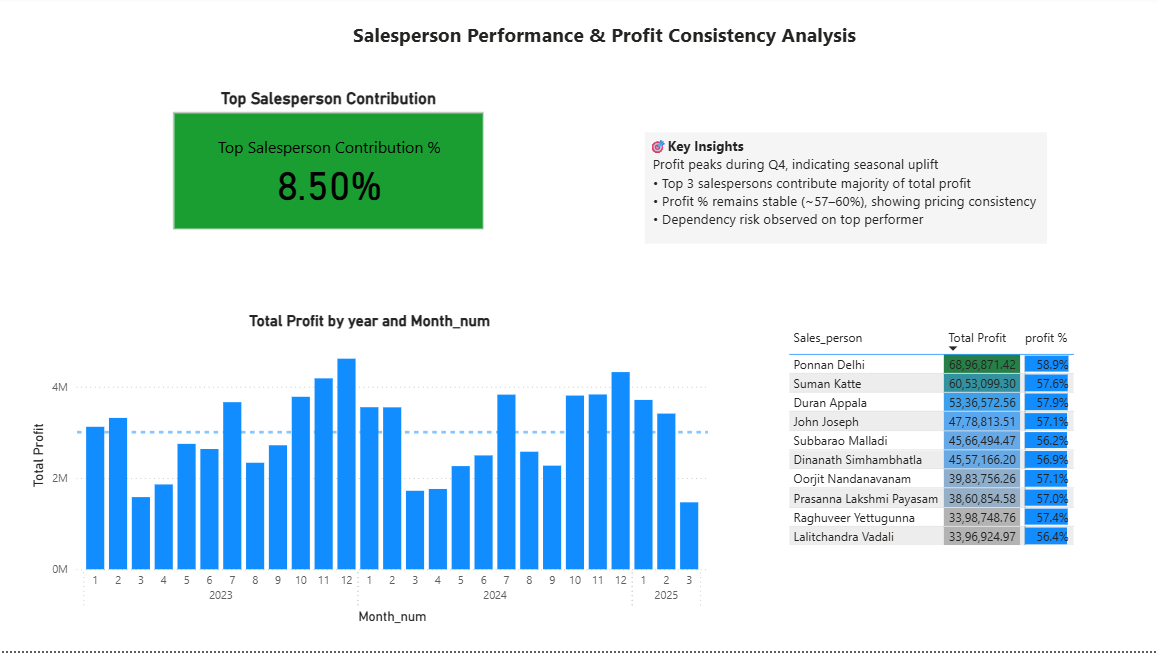

This screenshot's page, from the dashboard's own definition file:
{"tool":"powerbi","page":{"name":"Page 5","canvas":[1280,720],"ordinal":4},"visuals":[{"type":"tableEx","fields":{"Values":["people.Sales_person","shipments.total profit","shipments.profit %"]},"box":[31.9,13.4,349.4,152.9],"z":0},{"type":"clusteredColumnChart","fields":{"Category":["calendar.year","calendar.Month_num"],"Y":["shipments.total profit"]},"box":[446.8,166.3,769.3,468.7],"z":1000},{"type":"tableEx","fields":{"Values":["people.Sales_person","shipments.total profit","shipments.profit %"]},"box":[31.9,181.4,347.7,539.2],"z":2000}]}

Visuals, with their boxes in screenshot pixels (x1, y1, x2, y2), scaled from the page's 1280x720 canvas onto the 1158x655 screenshot:
tableEx - people.Sales_person x shipments.total profit: <bbox>29, 12, 345, 151</bbox>
clusteredColumnChart - calendar.year x calendar.Month_num: <bbox>404, 151, 1100, 578</bbox>
tableEx - people.Sales_person x shipments.total profit: <bbox>29, 165, 343, 654</bbox>
